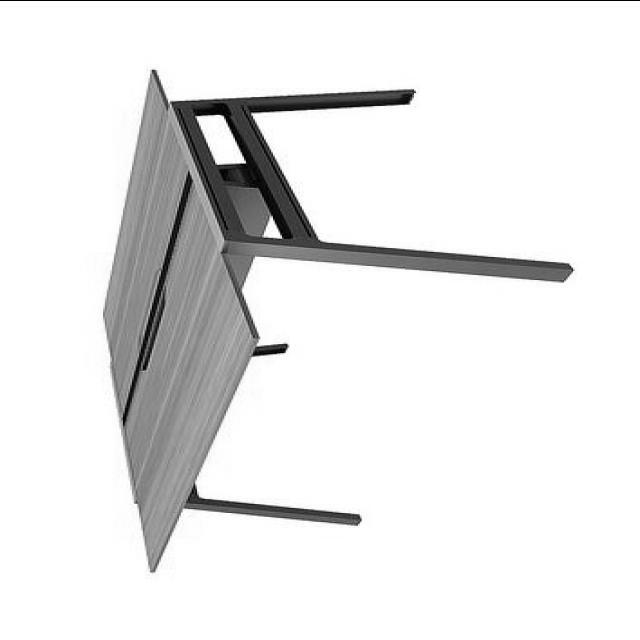table: (98, 70, 574, 572)
